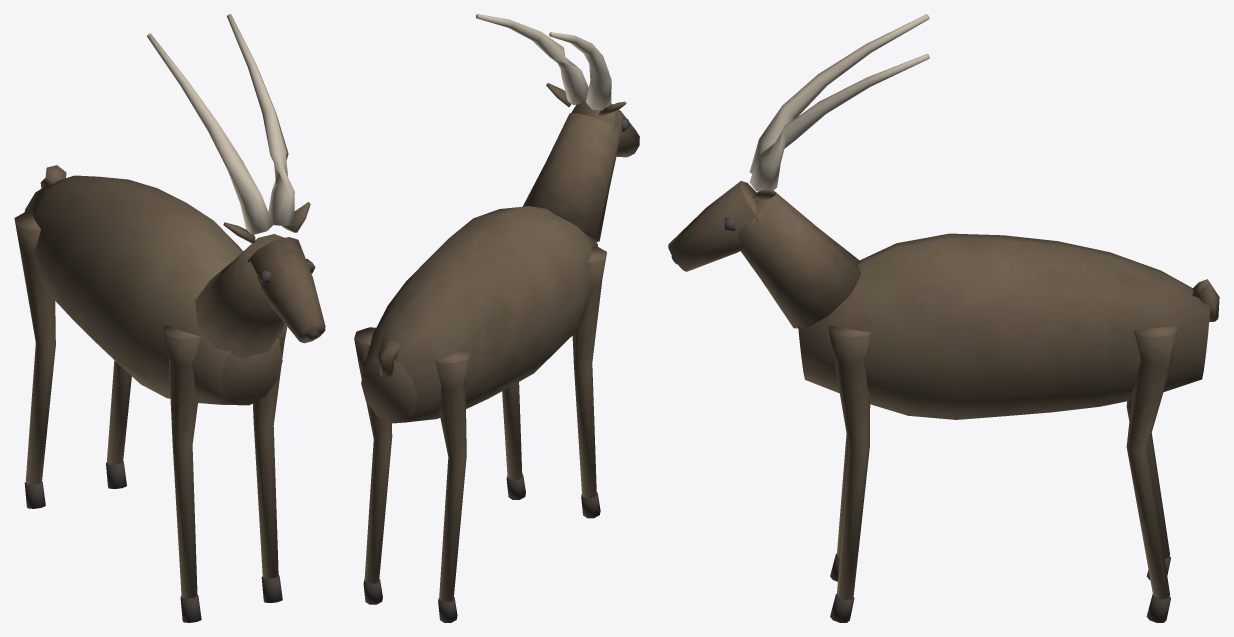
File: ibex.fbx
The picture shows the model from 3 angles, left to right: view 1: azimuth 30°, elevation 25°; view 2: azimuth 150°, elevation 25°; view 3: azimuth 270°, elevation 25°; orthographic projection. The views are drawn at different scales.
Parts seen in each view (by area): view 1: ibex__body, ibex__legFR, ibex__legRR, ibex__legFL, ibex__legRL; view 2: ibex__body, ibex__legRR, ibex__legFR, ibex__legRL, ibex__legFL; view 3: ibex__body, ibex__legRL, ibex__legFL, ibex__legRR.
Boxes of the visible parts, bbox=[...] form: ibex__body: bbox=[24, 14, 325, 405]; ibex__legFR: bbox=[163, 325, 201, 622]; ibex__legRR: bbox=[14, 211, 55, 508]; ibex__legFL: bbox=[253, 324, 287, 602]; ibex__legRL: bbox=[106, 360, 131, 488]; ibex__body: bbox=[361, 14, 639, 423]; ibex__legRR: bbox=[434, 349, 470, 622]; ibex__legFR: bbox=[572, 246, 606, 518]; ibex__legRL: bbox=[354, 327, 392, 604]; ibex__legFL: bbox=[502, 382, 525, 499]; ibex__body: bbox=[668, 14, 1219, 419]; ibex__legRL: bbox=[1126, 324, 1178, 622]; ibex__legFL: bbox=[828, 325, 870, 622]; ibex__legRR: bbox=[1126, 400, 1170, 579].
Bounding box in the file's own units: 0.4622 × 1.77 × 1.56.
Materials: 4 (1 with a texture image).
